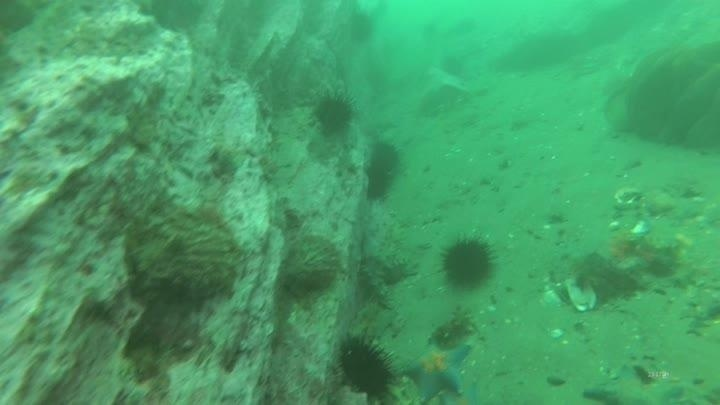echinus: (332, 331, 401, 402), (437, 234, 498, 293), (310, 90, 357, 137), (146, 1, 209, 36), (362, 161, 395, 203), (367, 139, 403, 175), (344, 10, 378, 47), (438, 53, 468, 81)
holothurian: (356, 252, 394, 313), (428, 305, 478, 348), (358, 256, 426, 282)
starfish: (400, 338, 474, 403), (582, 361, 685, 404)
